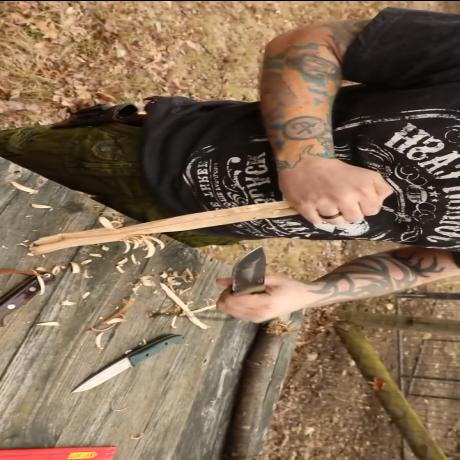1: (0, 7, 460, 325)
weapon: (72, 331, 188, 394), (232, 244, 269, 294)
